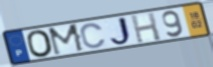9: (161, 9, 185, 39)
C: (79, 22, 107, 49)
H: (129, 12, 163, 45)
J: (109, 16, 135, 47)
M: (47, 23, 87, 57)
O: (25, 29, 55, 58)
